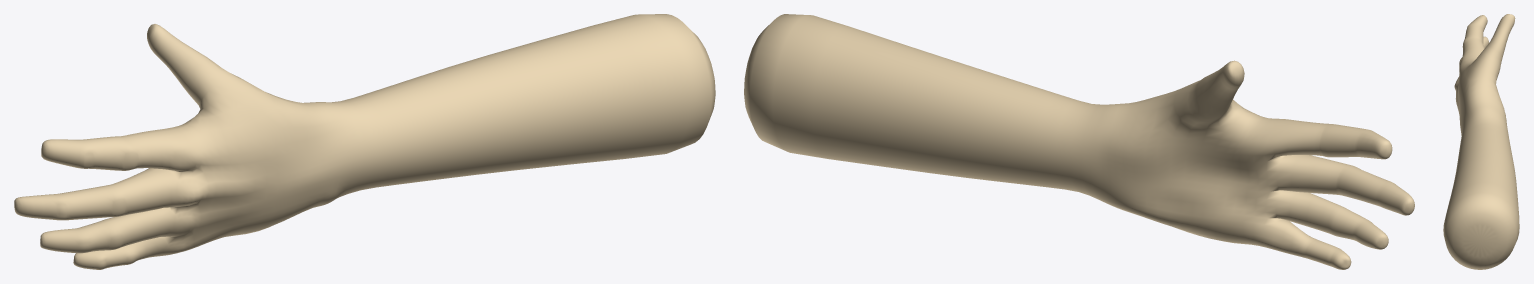
File: lefthand.fbx
The picture shows the model from 3 angles, left to right: view 1: azimuth 30°, elevation 25°; view 2: azimuth 150°, elevation 25°; view 3: azimuth 270°, elevation 25°; orthographic projection. The views are drawn at different scales.
Visible parts, largest first — view 1: Hand.003; view 2: Hand.003; view 3: Hand.003.
Part boxes in pixels (left/top/right/bottom): Hand.003: left=14, top=14, right=715, bottom=269; Hand.003: left=744, top=14, right=1414, bottom=269; Hand.003: left=1443, top=14, right=1519, bottom=269.
Bounding box in the file's own units: 2470 × 773 × 432.
